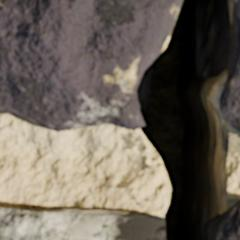broken_brick: (0, 0, 181, 132), (0, 211, 162, 239), (224, 0, 239, 132), (215, 200, 239, 239), (64, 209, 152, 216)
crack: (0, 0, 238, 239)
